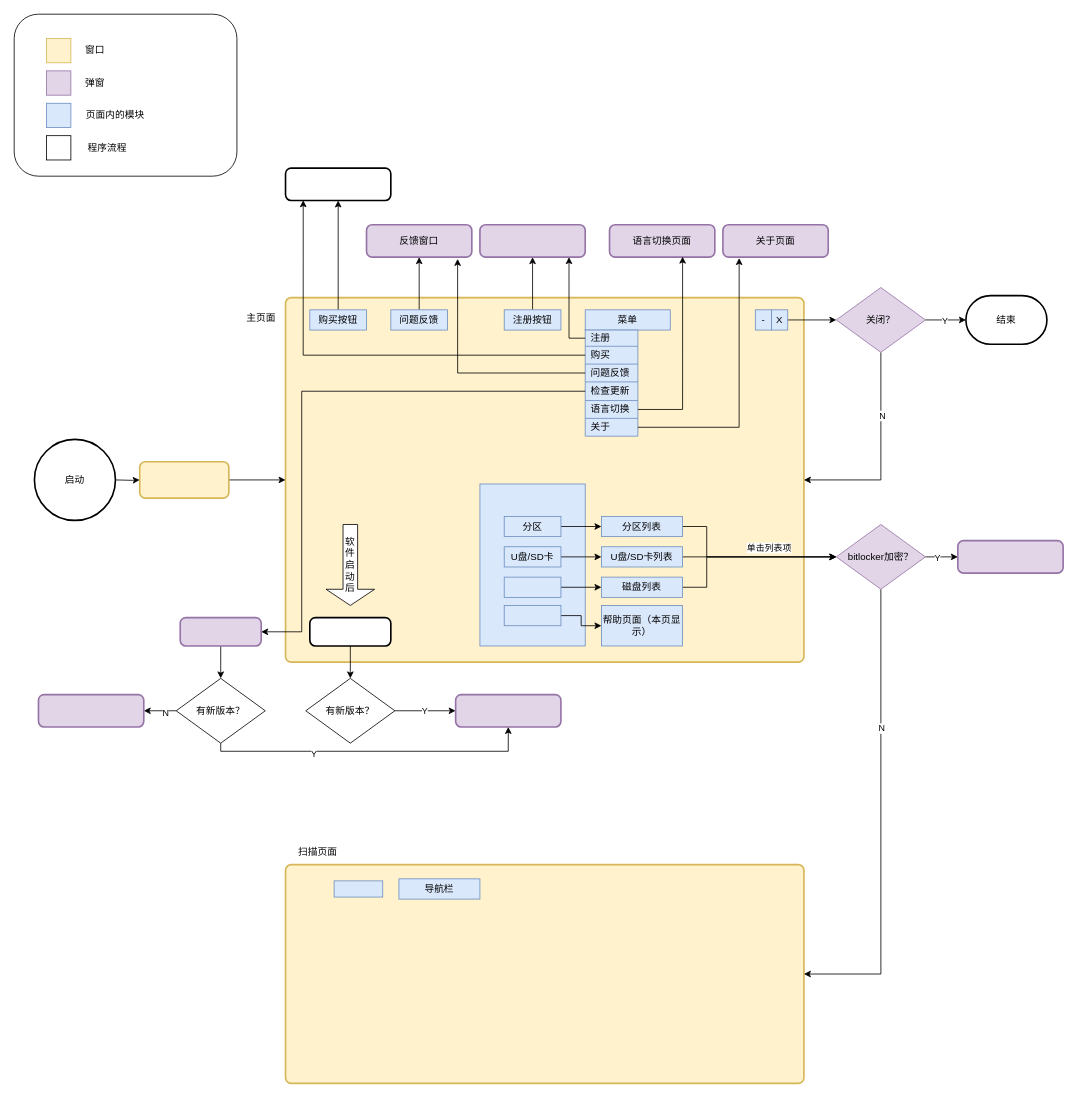
This 1078x1098 diagram has some shape labels left out. The shapes that lost their labels are listed below. From the top down, each one's box as (x1, y1, x2, y2) in pixels, then its label:
(284, 167, 391, 201): 购买网页
(479, 224, 586, 258): 注册窗口
(139, 460, 229, 499): 启动页
(957, 539, 1064, 573): bitlocker提示
(503, 576, 561, 597): 全盘扫描
(179, 616, 262, 646): 检测中页面
(309, 616, 391, 646): 更新检测
(503, 605, 561, 626): 帮助
(37, 693, 144, 727): 已是最新页面
(454, 693, 561, 727): 新版本提示
(333, 880, 383, 897): 主页
